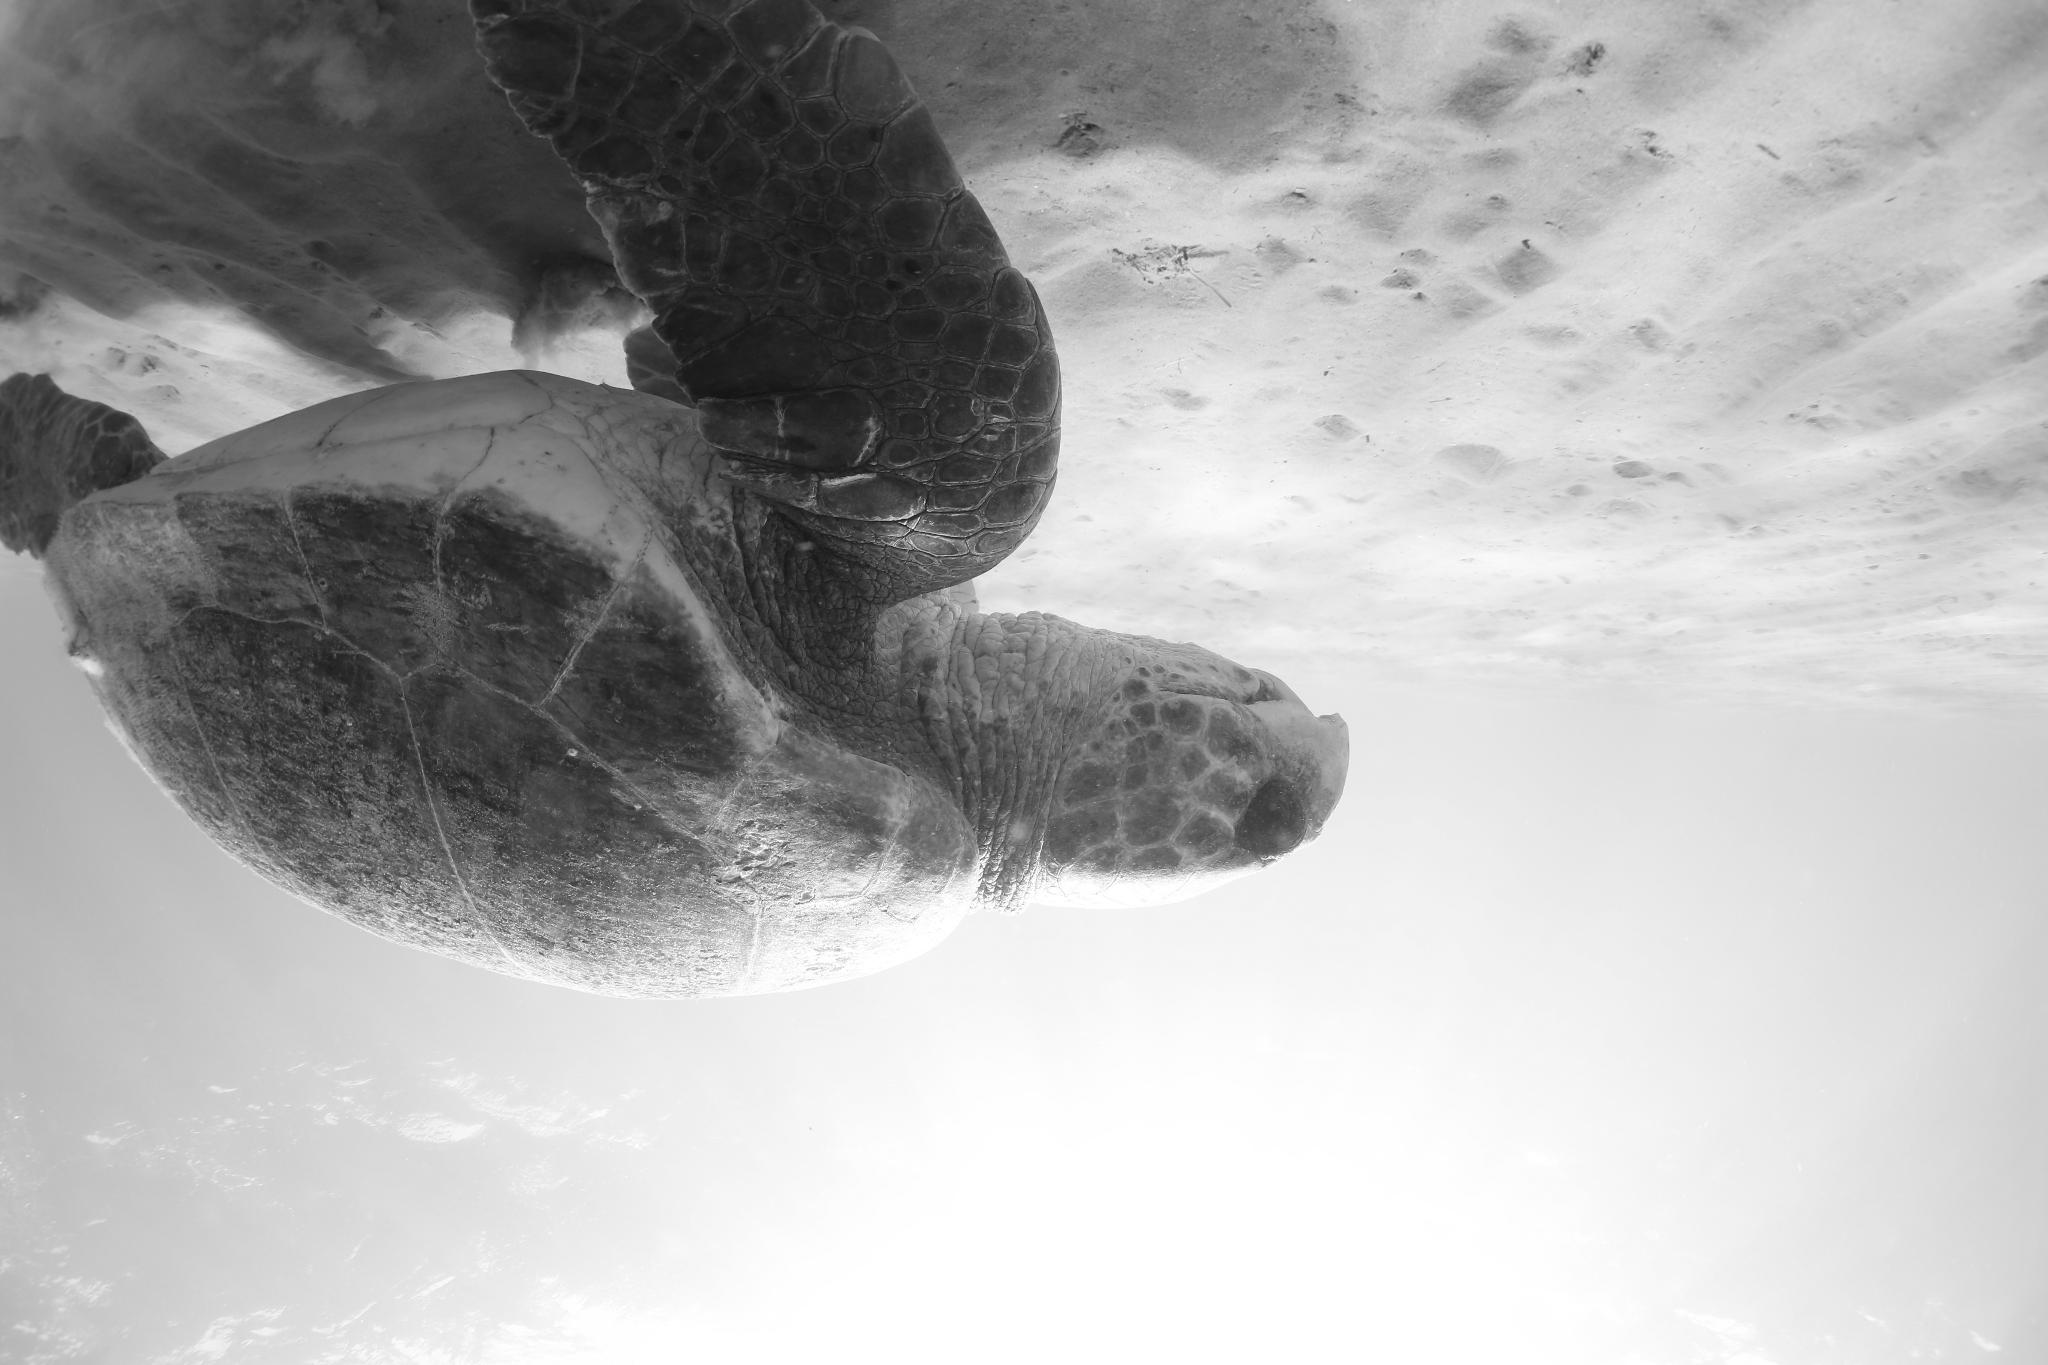Head: (946, 612, 1349, 914)
